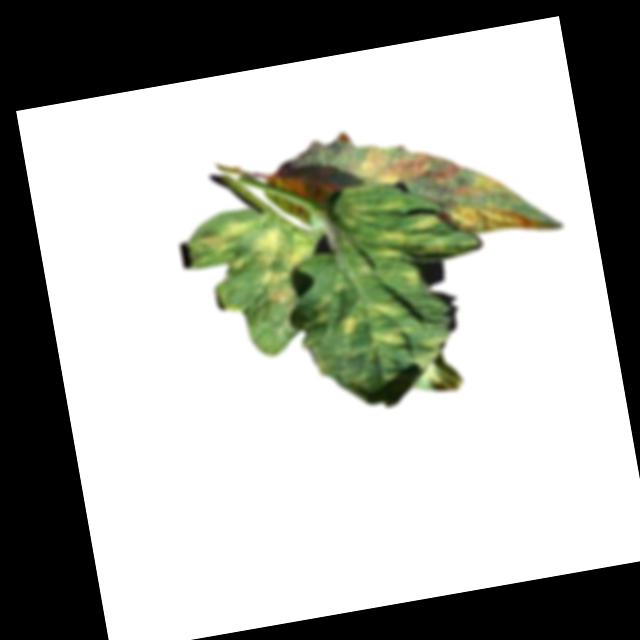Leaf_Mold: (262, 119, 438, 206), (436, 155, 562, 248), (246, 219, 324, 313), (337, 294, 411, 354), (369, 212, 449, 265), (191, 216, 255, 255)
